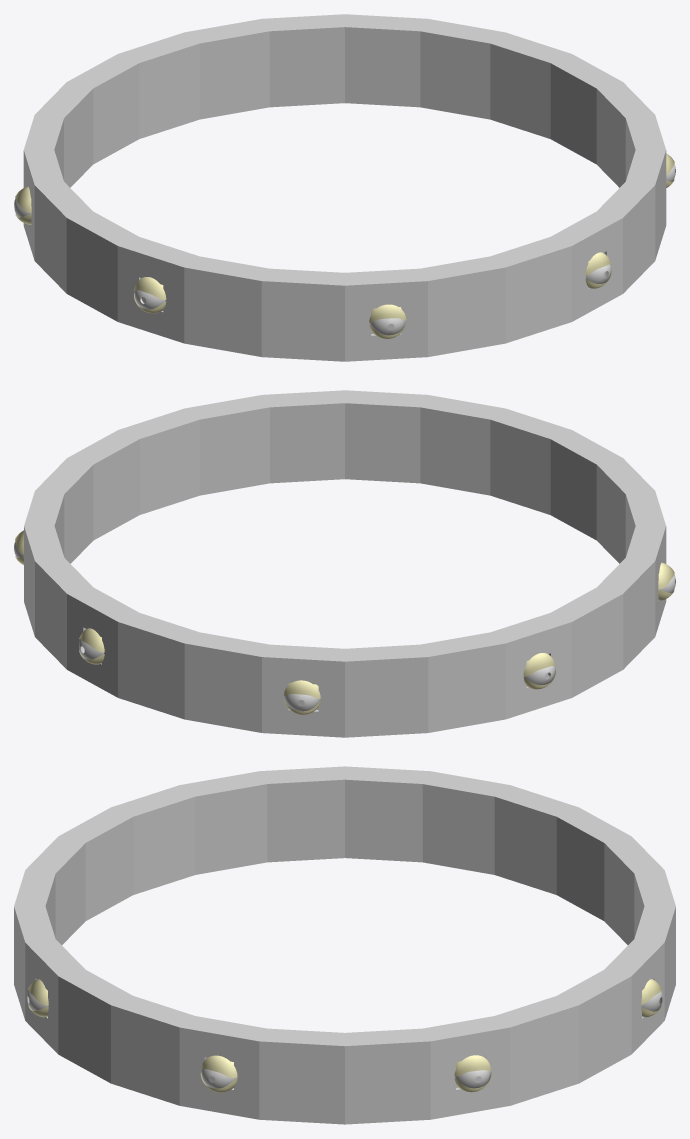
Rendered from RotatingAroundEye.fbx.
3 renders of one model, top to bottom at view 1: azimuth 30°, elevation 25°; view 2: azimuth 150°, elevation 25°; view 3: azimuth 270°, elevation 25°, orthographic. The views are drawn at different scales.
Visible parts, largest first — view 1: Cylinder; view 2: Cylinder; view 3: Cylinder.
Boxes of the visible parts, x1,y1,x2,y2 form: Cylinder: (14, 14, 675, 361); Cylinder: (14, 390, 675, 737); Cylinder: (14, 766, 675, 1124).
Size of the model in its own units: 501 by 65.4 by 501.
